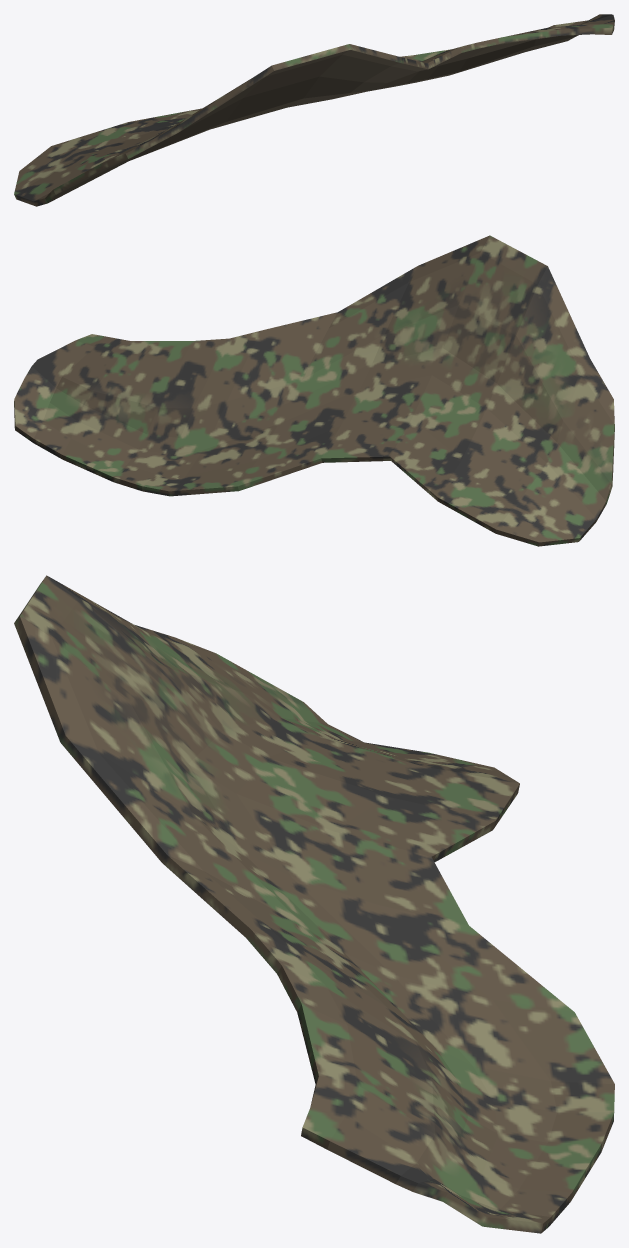
Rendered from SM_Trash_05.fbx.
The picture shows the model from 3 angles, top to bottom: view 1: azimuth 30°, elevation 25°; view 2: azimuth 150°, elevation 25°; view 3: azimuth 270°, elevation 25°; orthographic projection. The views are drawn at different scales.
Parts seen in each view (by area): view 1: SM_Trash_05; view 2: SM_Trash_05; view 3: SM_Trash_05.
Part boxes in pixels (x1,y1,x2,y2): SM_Trash_05: (14,14,614,206); SM_Trash_05: (14,235,614,546); SM_Trash_05: (14,575,614,1233).
Size of the model in its own units: 453 by 232 by 145.
1 material, 1 textured.
